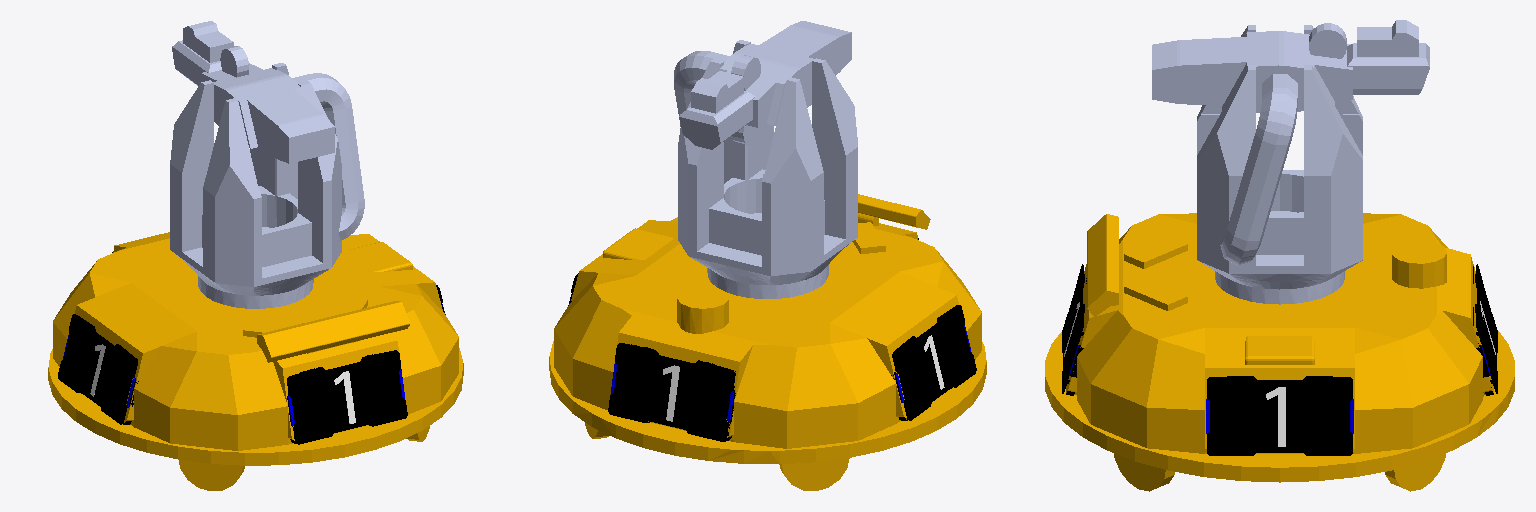
The robot description file, URDF, robot "hero":
<?xml version="1.0" encoding="utf-8"?>
<!-- This URDF was automatically created by SolidWorks to URDF Exporter! Originally created by [author] ([email redacted]) 
     Commit Version: 1.6.0-4-g7f85cfe  Build Version: 1.6.7995.38578
     For more information, please see http://wiki.ros.org/sw_urdf_exporter -->
<robot
  name="hero">
  <link
    name="base_link">
    <inertial>
      <origin
        xyz="0.00022371 -0.0010023 0.13309"
        rpy="0 0 0" />
      <mass
        value="67.399" />
      <inertia
        ixx="2.168"
        ixy="-1.3646E-05"
        ixz="-0.0014004"
        iyy="2.1185"
        iyz="0.0077433"
        izz="3.8624" />
    </inertial>
    <visual>
      <origin
        xyz="0 0 0"
        rpy="0 0 0" />
      <geometry>
        <mesh
          filename="package://hero/meshes/base_link.STL" />
      </geometry>
      <material
        name="base_link">
        <color
          rgba="0.984 0.737 0.020 1" />
      </material>
    </visual>
    <collision>
      <origin
        xyz="0 0 0"
        rpy="0 0 0" />
      <geometry>
        <mesh
          filename="package://hero/meshes/base_link.STL" />
      </geometry>
    </collision>
  </link>
  <link
    name="mount_link">
    <inertial>
      <origin
        xyz="-0.012913 0.14322 -0.0023258"
        rpy="0 0 0" />
      <mass
        value="9.6692" />
      <inertia
        ixx="0.14095"
        ixy="0.013309"
        ixz="-0.0031604"
        iyy="0.11751"
        iyz="0.0009584"
        izz="0.16804" />
    </inertial>
    <visual>
      <origin
        xyz="0 0 0"
        rpy="0 0 0" />
      <geometry>
        <mesh
          filename="package://hero/meshes/mount_link.STL" />
      </geometry>
      <material
        name="mount_link">
        <color
          rgba="0.79216 0.81961 0.93333 1" />
      </material>
    </visual>
    <collision>
      <origin
        xyz="0 0 0"
        rpy="0 0 0" />
      <geometry>
        <mesh
          filename="package://hero/meshes/mount_link.STL" />
      </geometry>
    </collision>
  </link>
  <joint
    name="mount_joint"
    type="continuous">
    <origin
      xyz="0 0 0.2341"
      rpy="1.5708 0 -3.1416" />
    <parent
      link="base_link" />
    <child
      link="mount_link" />
    <axis
      xyz="0 1 0" />
  </joint>
  <link
    name="turret_link">
    <inertial>
      <origin
        xyz="7.1618E-08 0.0031106 0.011239"
        rpy="0 0 0" />
      <mass
        value="3.2413" />
      <inertia
        ixx="0.042655"
        ixy="1.6627E-10"
        ixz="1.7711E-08"
        iyy="0.043453"
        iyz="-0.0018182"
        izz="0.0049322" />
    </inertial>
    <visual>
      <origin
        xyz="0 0 0"
        rpy="0 0 0" />
      <geometry>
        <mesh
          filename="package://hero/meshes/turret_link.STL" />
      </geometry>
      <material
        name="turret_link">
        <color
          rgba="0.79216 0.81961 0.93333 1" />
      </material>
    </visual>
    <collision>
      <origin
        xyz="0 0 0"
        rpy="0 0 0" />
      <geometry>
        <mesh
          filename="package://hero/meshes/turret_link.STL" />
      </geometry>
    </collision>
  </link>
  <joint
    name="turret_joint"
    type="continuous">
    <origin
      xyz="0 0.354 0"
      rpy="0 0 0" />
    <parent
      link="mount_link" />
    <child
      link="turret_link" />
    <axis
      xyz="-1 0 0" />
  </joint>
  <link
    name="plates_link">
    <inertial>
      <origin
        xyz="0 0 0"
        rpy="0 0 0" />
      <mass
        value="0" />
      <inertia
        ixx="0"
        ixy="0"
        ixz="0"
        iyy="0"
        iyz="0"
        izz="0" />
    </inertial>
    <visual>
      <origin
        xyz="0 0 0"
        rpy="0 0 0" />
      <geometry>
        <mesh
          filename="package://hero/meshes/plates_link.STL" />
      </geometry>
      <material
        name="plates_link">
        <color
          rgba="0 0 0 1" />
      </material>
    </visual>
    <collision>
      <origin
        xyz="0 0 0"
        rpy="0 0 0" />
      <geometry>
        <mesh
          filename="package://hero/meshes/plates_link.STL" />
      </geometry>
    </collision>
  </link>
  <joint
    name="plates_joint"
    type="fixed">
    <origin
      xyz="0 0 0"
      rpy="0 0 0" />
    <parent
      link="base_link" />
    <child
      link="plates_link" />
    <axis
      xyz="0 0 0" />
  </joint>
  <link
    name="lightbars_link">
    <inertial>
      <origin
        xyz="-2.82E-14 2.1982E-14 0.14331"
        rpy="0 0 0" />
      <mass
        value="0.0051135" />
      <inertia
        ixx="1.1406E-06"
        ixy="-7.3389E-21"
        ixz="6.8259E-19"
        iyy="1.1406E-06"
        iyz="9.6694E-21"
        izz="9.472E-08" />
    </inertial>
    <visual>
      <origin
        xyz="0 0 0"
        rpy="0 0 0" />
      <geometry>
        <mesh
          filename="package://hero/meshes/lightbars_link.STL" />
      </geometry>
      <material
        name="lightbars_link">
        <color
          rgba="0 0 1 1" />
      </material>
    </visual>
    <collision>
      <origin
        xyz="0 0 0"
        rpy="0 0 0" />
      <geometry>
        <mesh
          filename="package://hero/meshes/lightbars_link.STL" />
      </geometry>
    </collision>
  </link>
  <joint
    name="lightbars_joint"
    type="fixed">
    <origin
      xyz="0 0 0"
      rpy="0 0 0" />
    <parent
      link="plates_link" />
    <child
      link="lightbars_link" />
    <axis
      xyz="0 0 0" />
  </joint>
  <link
    name="numbers_link">
    <inertial>
      <origin
        xyz="-9.4036E-14 -8.8818E-16 0.14823"
        rpy="0 0 0" />
      <mass
        value="0.0005916" />
      <inertia
        ixx="4.8435E-07"
        ixy="-4.8266E-22"
        ixz="2.5431E-19"
        iyy="4.8435E-07"
        iyz="6.9748E-21"
        izz="6.0113E-08" />
    </inertial>
    <visual>
      <origin
        xyz="0 0 0"
        rpy="0 0 0" />
      <geometry>
        <mesh
          filename="package://hero/meshes/numbers_link.STL" />
      </geometry>
      <material
        name="numbers_link">
        <color
          rgba="1 1 1 1" />
      </material>
    </visual>
    <collision>
      <origin
        xyz="0 0 0"
        rpy="0 0 0" />
      <geometry>
        <mesh
          filename="package://hero/meshes/numbers_link.STL" />
      </geometry>
    </collision>
  </link>
  <joint
    name="numbers_joint"
    type="fixed">
    <origin
      xyz="0 0 0"
      rpy="0 0 0" />
    <parent
      link="plates_link" />
    <child
      link="numbers_link" />
    <axis
      xyz="0 0 0" />
  </joint>
</robot>

--- Facts derived from the render (not from the file) ---
Views: 3 orthographic renders of the robot side by side, from view 1: azimuth 30°, elevation 25°; view 2: azimuth 150°, elevation 25°; view 3: azimuth 270°, elevation 25°.
Robot: hero — 6 links, 5 joints (2 continuous, 3 fixed); root link base_link; default pose: every joint at zero.
Visible links, largest first — view 1: base_link, mount_link, plates_link, turret_link, numbers_link; view 2: base_link, mount_link, plates_link, turret_link, numbers_link; view 3: base_link, mount_link, turret_link, plates_link, numbers_link.
Link boxes in pixels (bbox=[...]): base_link: bbox=[48, 232, 463, 490]; mount_link: bbox=[170, 63, 364, 308]; plates_link: bbox=[58, 252, 444, 444]; turret_link: bbox=[172, 21, 334, 163]; numbers_link: bbox=[90, 344, 355, 423]; base_link: bbox=[549, 194, 986, 490]; mount_link: bbox=[674, 40, 857, 298]; plates_link: bbox=[569, 238, 976, 441]; turret_link: bbox=[679, 21, 851, 149]; numbers_link: bbox=[663, 335, 944, 421]; base_link: bbox=[1045, 213, 1514, 491]; mount_link: bbox=[1197, 25, 1362, 304]; turret_link: bbox=[1152, 20, 1429, 115]; plates_link: bbox=[1062, 264, 1497, 455]; numbers_link: bbox=[1064, 301, 1495, 446].
Bounding box of the posed robot: 0.738 × 0.7355 × 0.6979 m (x, y, z).
Meshes: 6 distinct files referenced, 6 mesh visuals loaded (6 binary STL).